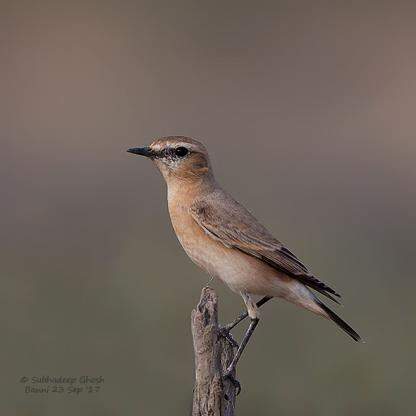Burung: (124, 134, 366, 393)
